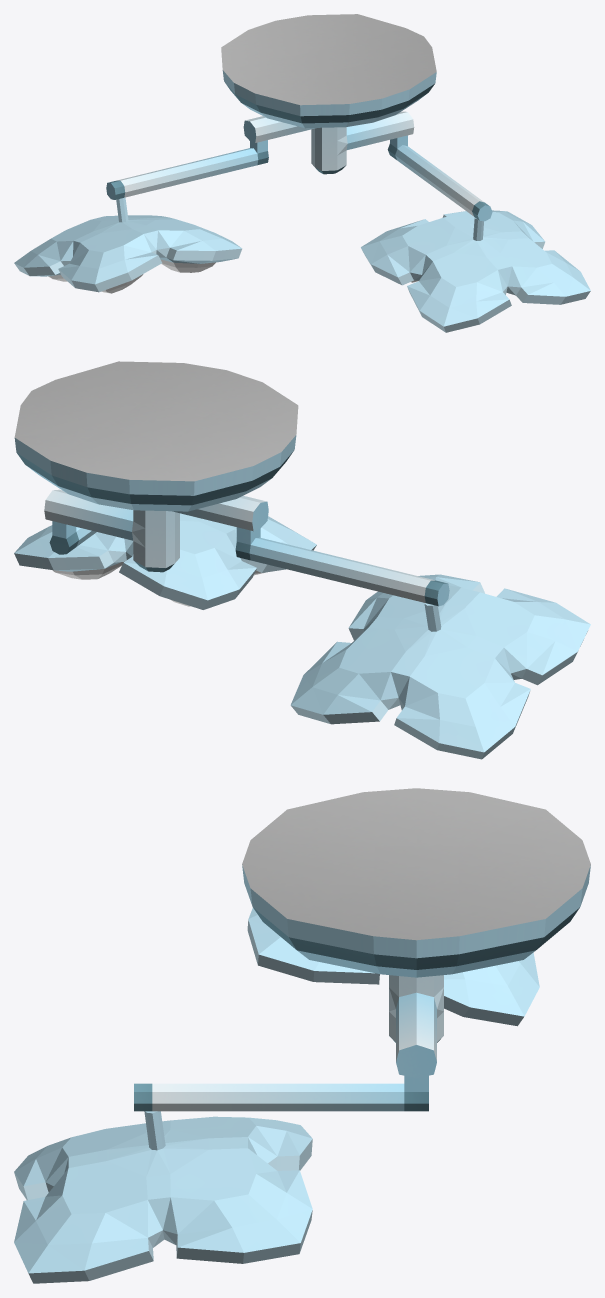
Rendered from overhead_light.dae.
3 views of the same model, one above another, from view 1: azimuth 30°, elevation 25°; view 2: azimuth 150°, elevation 25°; view 3: azimuth 270°, elevation 25° (orthographic). The views are drawn at different scales.
Parts seen in each view (by area): view 1: light_fixture, light_2, light_1; view 2: light_fixture, light_1, light_2; view 3: light_fixture, light_2, light_1.
Boxes of the visible parts, left/top/right/bottom form: light_fixture: left=106, top=14, right=492, bottom=221; light_2: left=361, top=210, right=590, bottom=332; light_1: left=14, top=197, right=242, bottom=293; light_fixture: left=14, top=361, right=449, bottom=606; light_1: left=290, top=574, right=590, bottom=759; light_2: left=14, top=513, right=316, bottom=609; light_fixture: left=134, top=788, right=590, bottom=1111; light_2: left=14, top=1111, right=312, bottom=1283; light_1: left=247, top=908, right=539, bottom=1026.
Size of the model in its own units: 1.85 by 1.28 by 0.7836.
